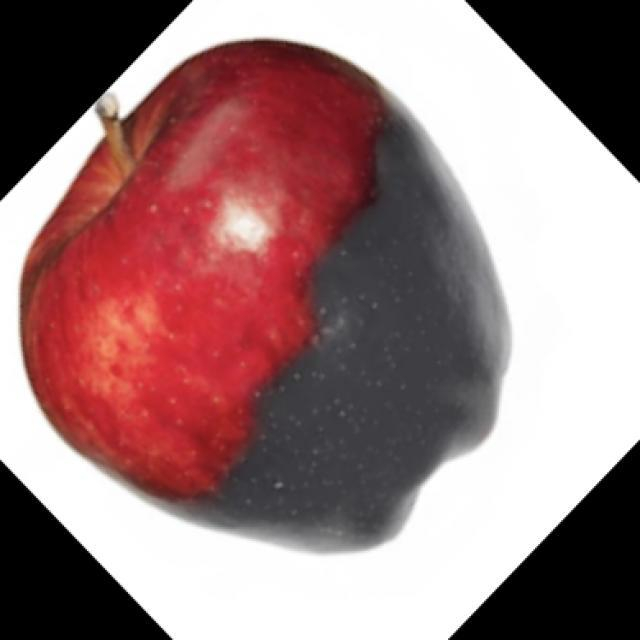Rotten: (75, 52, 515, 558)
